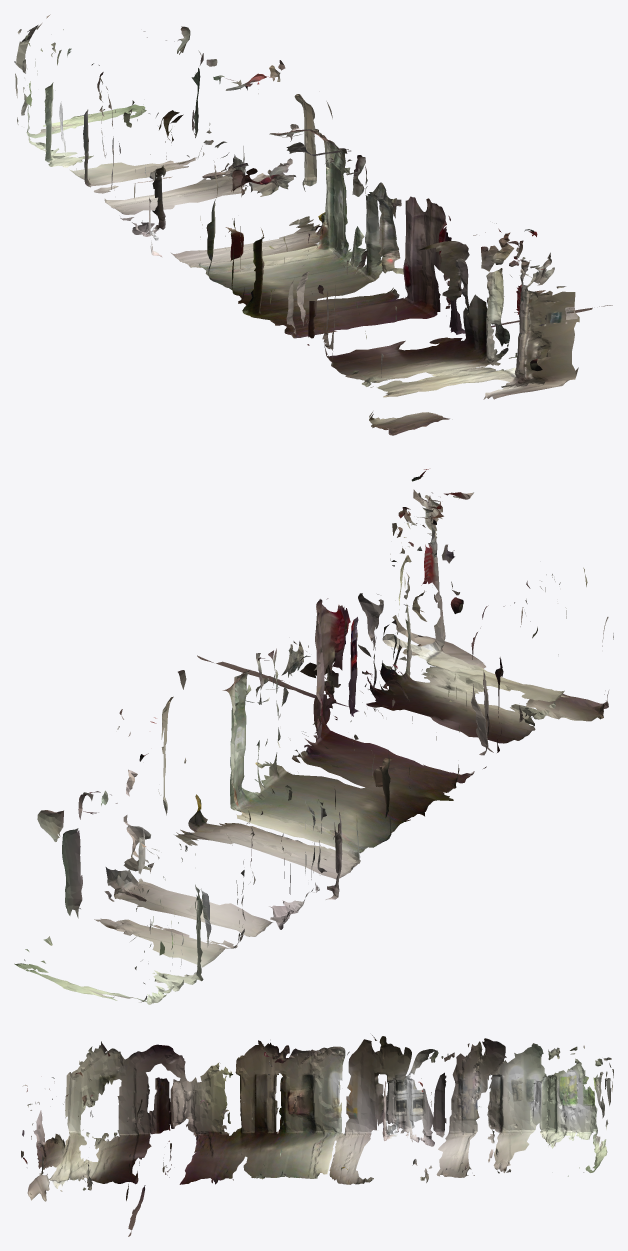
File: chudbaskola.glb
The picture shows the model from 3 angles, top to bottom: view 1: azimuth 30°, elevation 25°; view 2: azimuth 150°, elevation 25°; view 3: azimuth 270°, elevation 25°; orthographic projection. The views are drawn at different scales.
Visible parts, largest first — view 1: Mesh_0; view 2: Mesh_0; view 3: Mesh_0.
Part boxes in pixels (x1,y1,x2,y2): Mesh_0: [14, 14, 612, 435]; Mesh_0: [14, 469, 613, 1004]; Mesh_0: [21, 1035, 613, 1236].
Size of the model in its own units: 16.31 by 9 by 38.36.
Materials: 1 (1 with a texture image).
